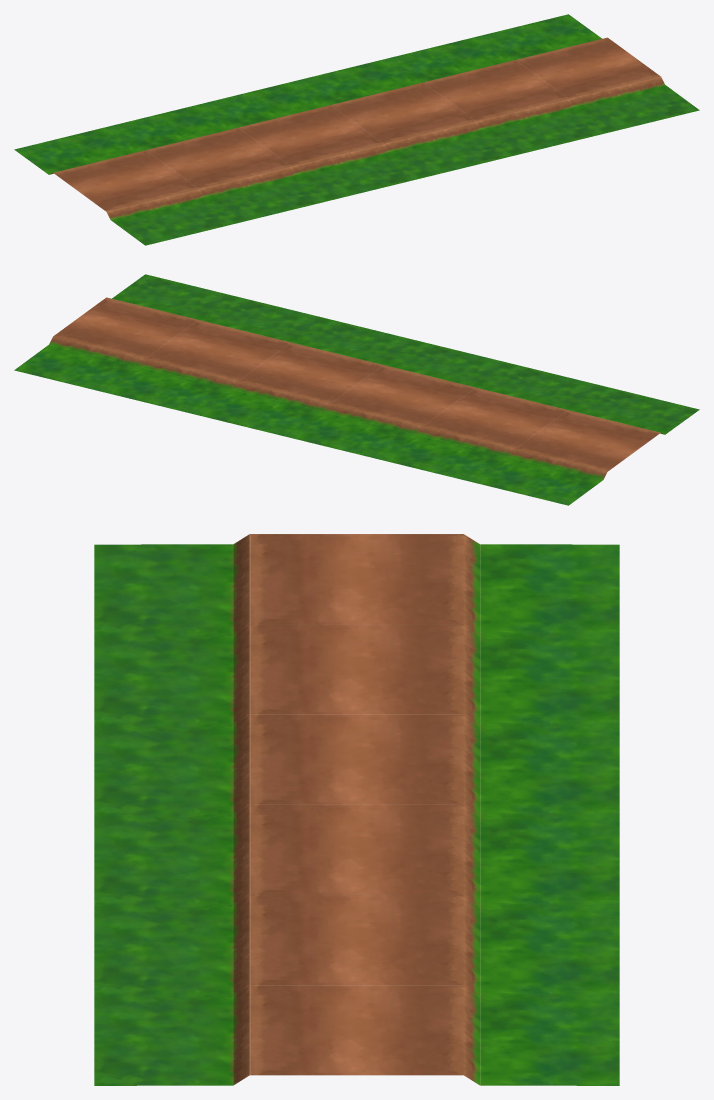
The model's file is village wall (1).fbx.
The picture shows the model from 3 angles, top to bottom: view 1: azimuth 30°, elevation 25°; view 2: azimuth 150°, elevation 25°; view 3: azimuth 270°, elevation 25°; orthographic projection. The views are drawn at different scales.
Parts seen in each view (by area): view 1: village_road_plane_lo7; view 2: village_road_plane_lo7; view 3: village_road_plane_lo7.
Boxes of the visible parts, x1,y1,x2,y2 form: village_road_plane_lo7: (14, 14, 699, 245); village_road_plane_lo7: (14, 274, 699, 505); village_road_plane_lo7: (94, 534, 619, 1085).
Bounding box in the file's own units: 144 × 1.31 × 58.94.
Materials: 1 (1 with a texture image).
